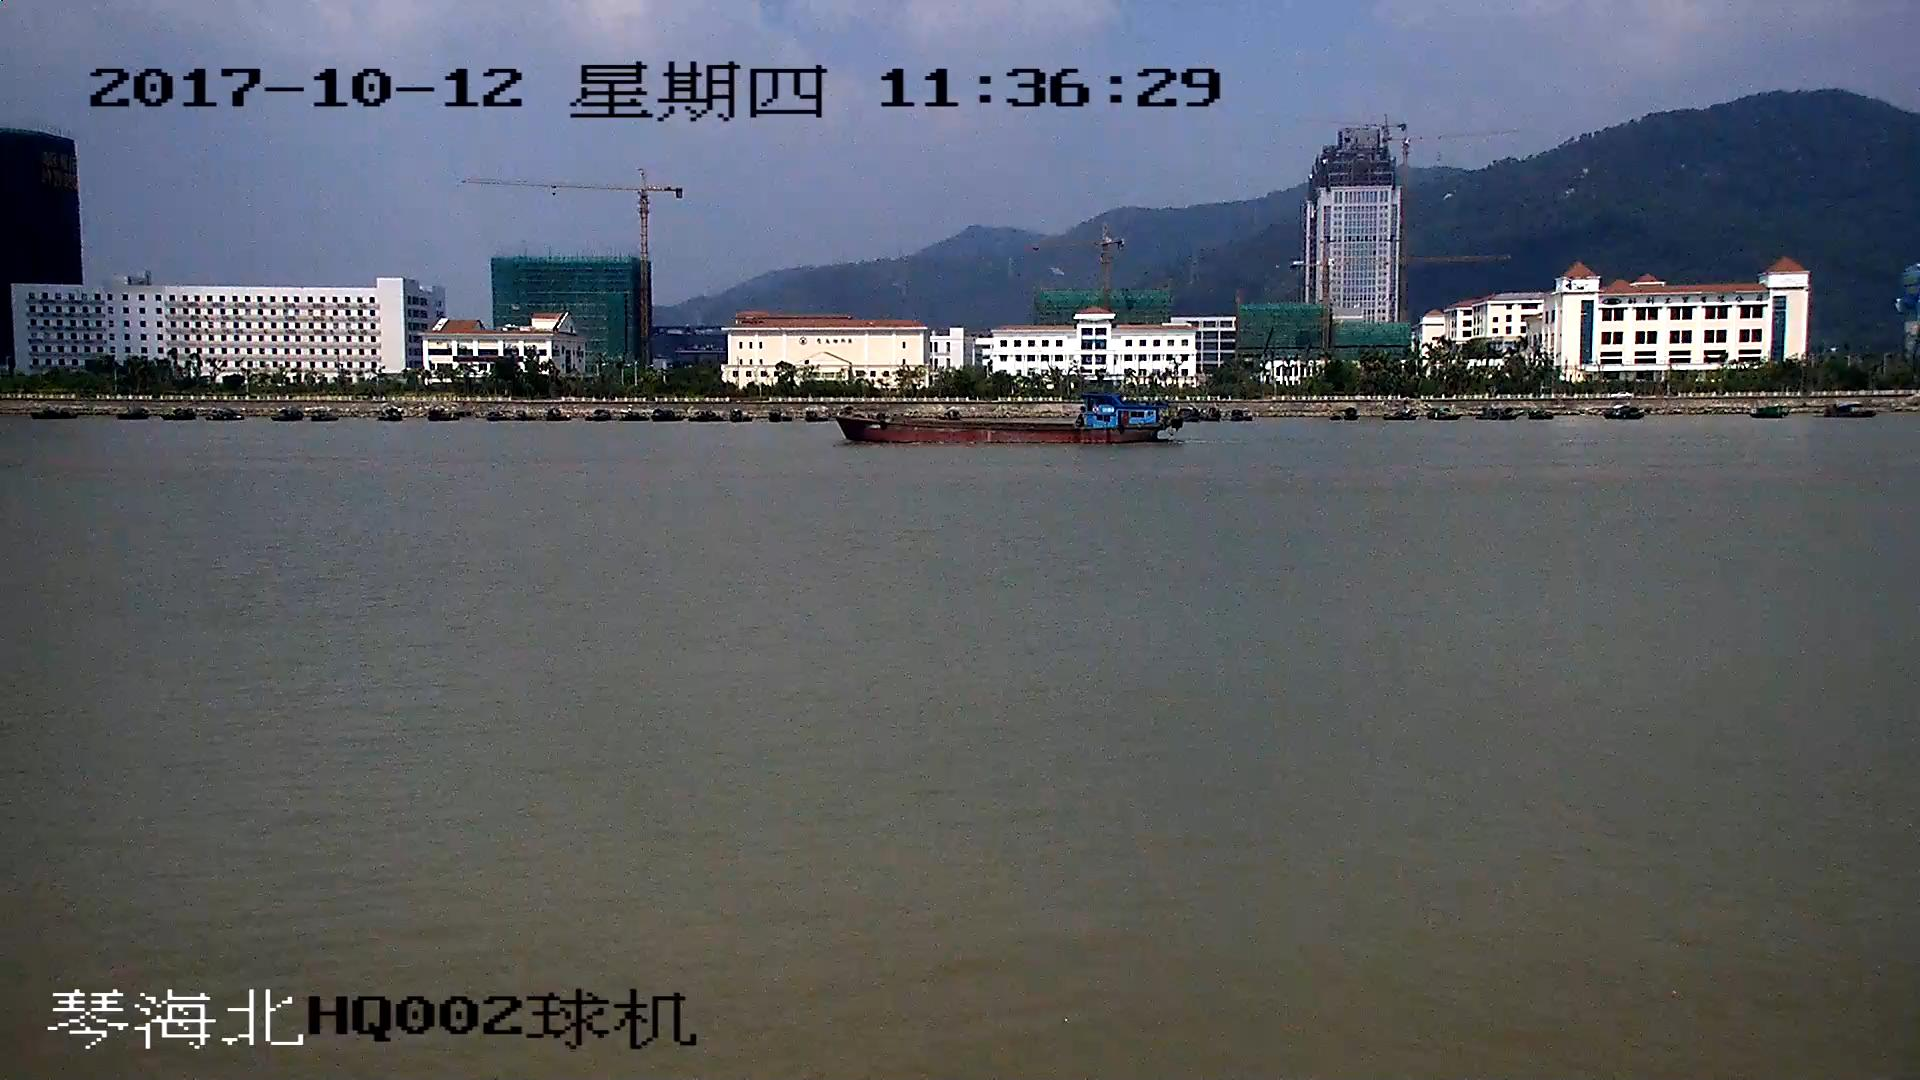bulk cargo carrier: (837, 387, 1171, 450)
